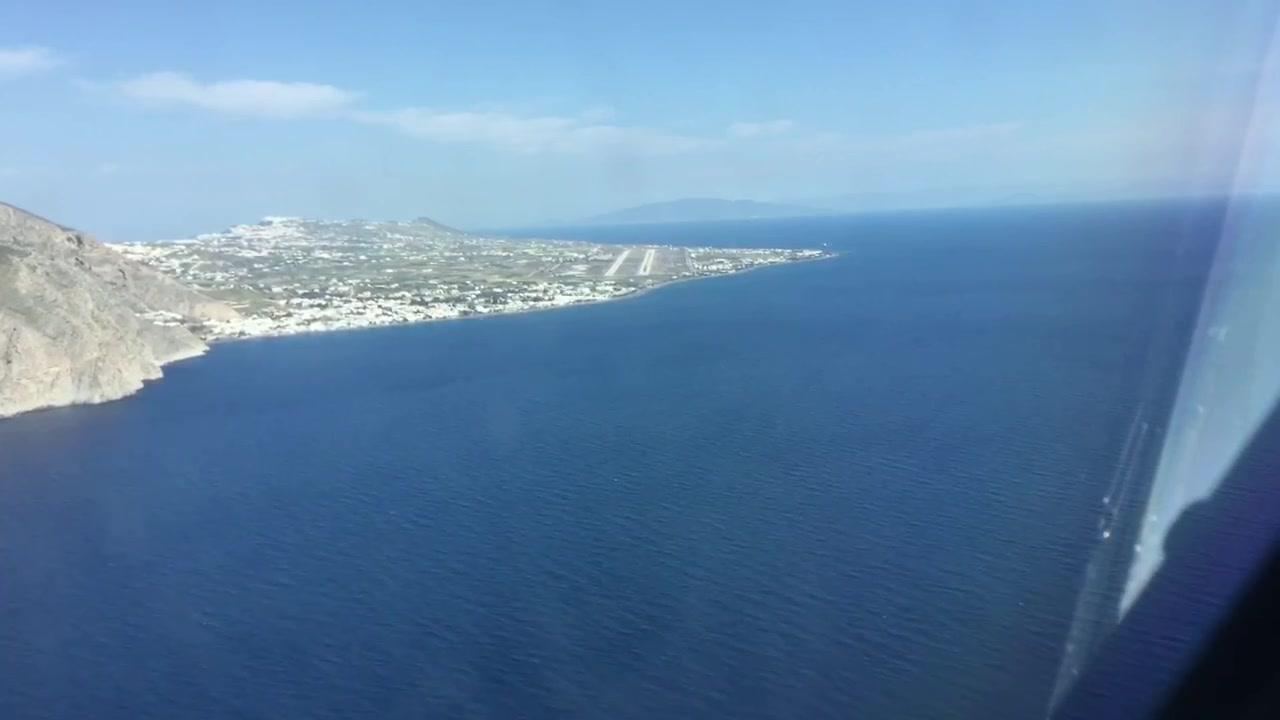runway: (602, 249, 632, 277), (636, 249, 655, 276)
